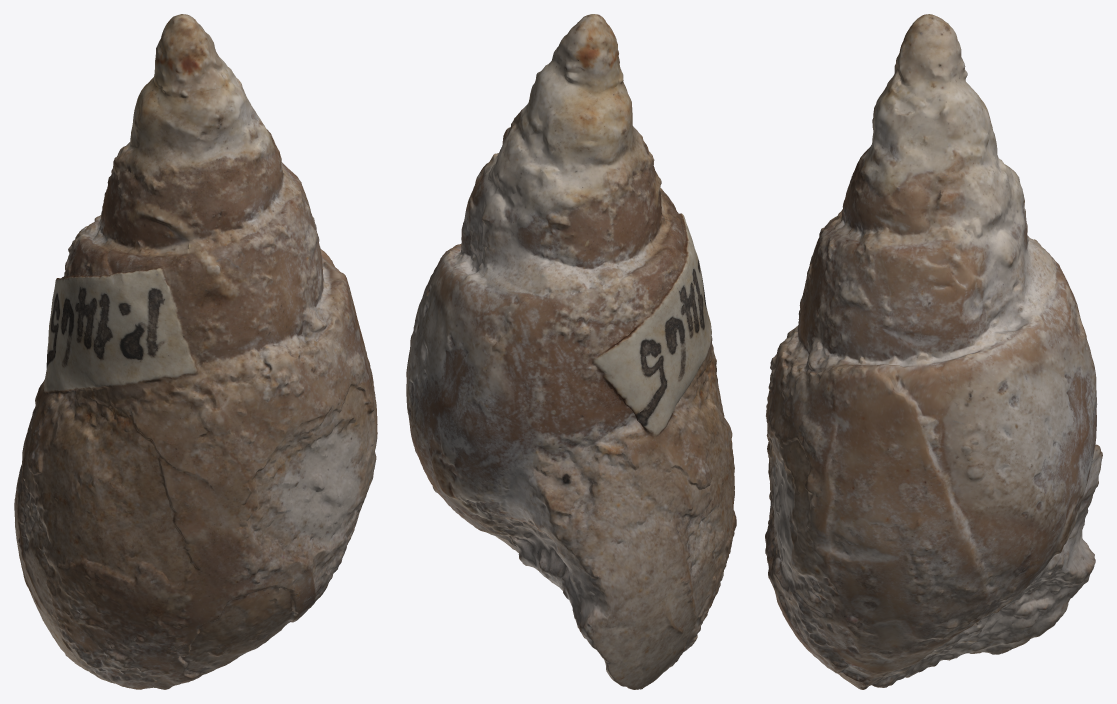
File: EWS0016515.glb
The picture shows the model from 3 angles, left to right: view 1: azimuth 30°, elevation 25°; view 2: azimuth 150°, elevation 25°; view 3: azimuth 270°, elevation 25°; orthographic projection. The views are drawn at different scales.
Parts seen in each view (by area): view 1: input; view 2: input; view 3: input.
Boxes of the visible parts, <box> form: input: <box>14,14,377,689</box>; input: <box>406,14,736,689</box>; input: <box>765,14,1102,689</box>.
Bounding box in the file's own units: 0.0173 × 0.0352 × 0.0157.
1 material, 1 textured.
